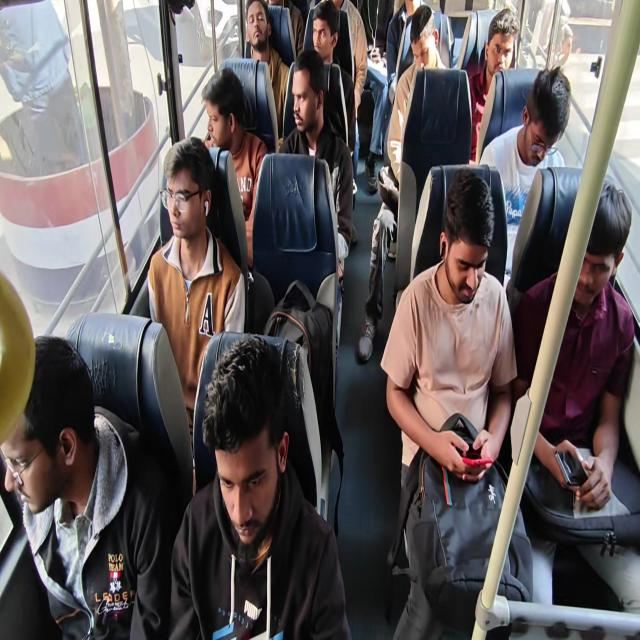person: (1, 1, 638, 638), (380, 168, 534, 638), (168, 334, 351, 638), (511, 179, 639, 610), (1, 334, 170, 638), (357, 4, 448, 362), (147, 136, 246, 461), (478, 64, 571, 282), (278, 49, 354, 289), (201, 67, 269, 270), (386, 5, 448, 184), (310, 1, 358, 210), (468, 7, 520, 163), (242, 0, 290, 139), (385, 0, 422, 105)
